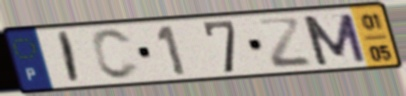1: (155, 24, 188, 78)
7: (201, 19, 238, 75)
C: (89, 27, 142, 82)
I: (57, 29, 82, 86)
M: (298, 12, 369, 68)
Z: (255, 17, 315, 71)
